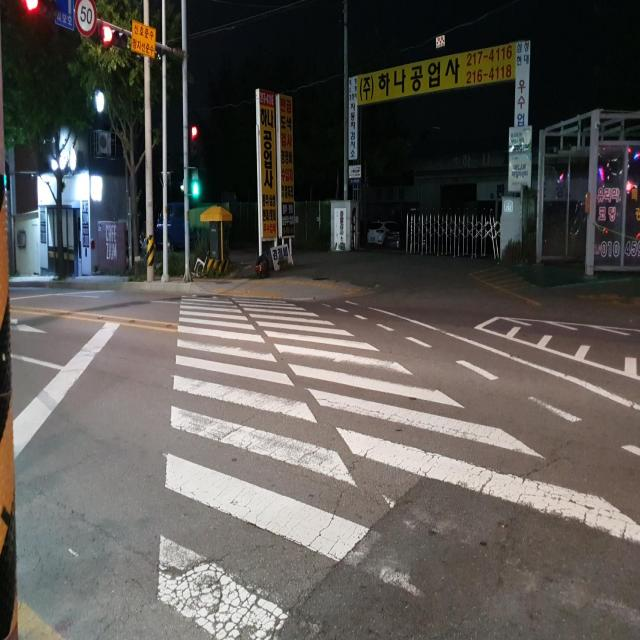초록불: (190, 171, 202, 199)
횡단보도: (155, 294, 640, 640)
